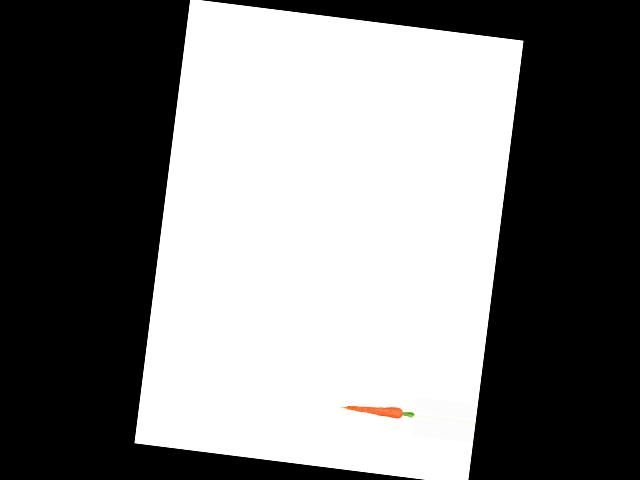carrot: (338, 397, 405, 422)
